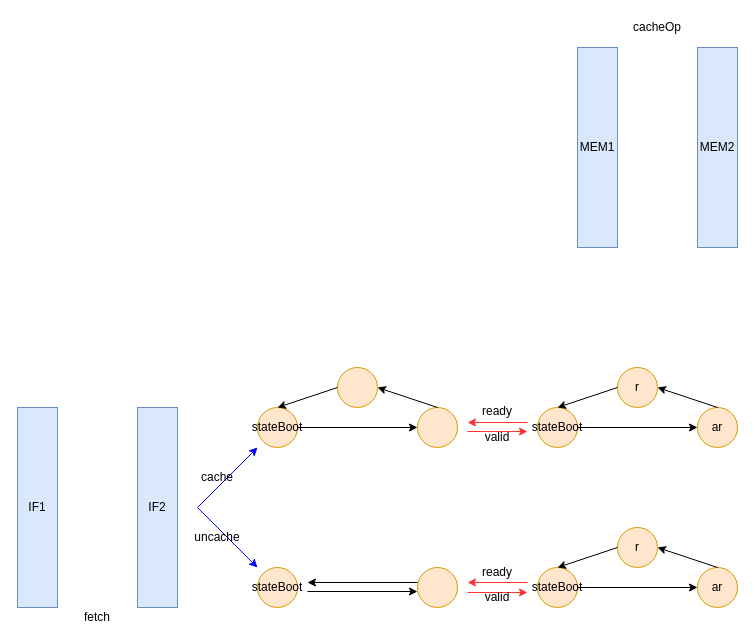
Image size: 755x644. Some labels were removed from this diagram. Here are the shapes that lost their labels. From the top down, the centre of each, then its label:
the point at 357,387: floodFill
the point at 437,427: readNew
the point at 437,587: read
